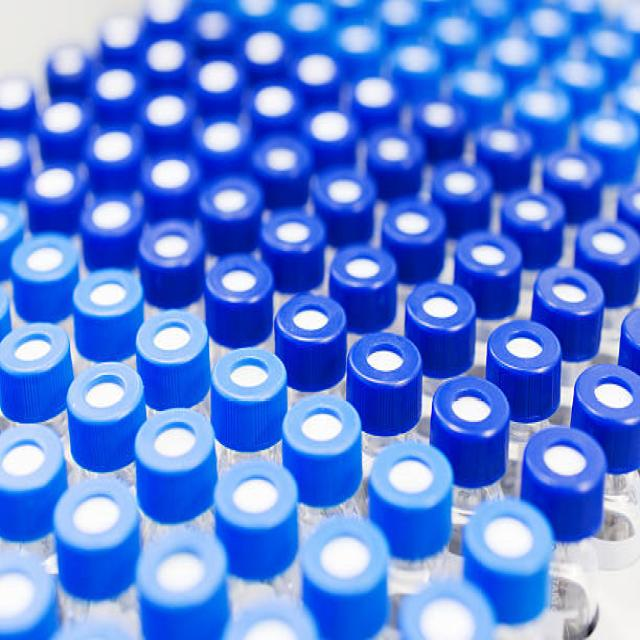vial: (296, 519, 394, 589), (52, 480, 146, 552), (215, 460, 304, 532), (464, 500, 552, 572), (138, 537, 230, 605), (210, 348, 286, 424), (0, 547, 66, 633), (431, 380, 516, 439), (372, 444, 452, 506), (528, 429, 604, 493), (131, 408, 216, 465), (347, 326, 422, 390), (202, 253, 279, 315), (272, 284, 345, 349), (484, 319, 562, 378), (67, 366, 149, 422), (326, 236, 401, 296), (402, 589, 490, 640), (577, 363, 640, 432), (1, 429, 62, 500), (283, 399, 358, 455), (135, 308, 209, 364), (538, 267, 601, 331), (4, 322, 70, 380), (64, 277, 143, 324), (268, 207, 334, 260), (450, 232, 528, 275), (407, 281, 469, 333), (312, 169, 376, 218), (504, 192, 568, 238), (388, 199, 446, 249), (139, 222, 199, 270), (10, 235, 78, 277), (578, 226, 636, 274), (430, 165, 488, 212), (234, 608, 317, 640), (583, 112, 639, 158), (552, 146, 602, 197), (207, 174, 260, 220), (472, 122, 526, 166), (82, 195, 132, 239), (87, 127, 147, 162), (144, 152, 201, 188), (376, 132, 426, 171), (256, 138, 309, 174), (31, 166, 80, 204), (310, 110, 358, 144), (41, 103, 87, 136), (0, 130, 29, 180), (458, 70, 498, 106), (143, 44, 189, 75), (562, 51, 595, 92), (0, 198, 28, 246), (525, 85, 567, 117), (353, 78, 394, 110), (296, 54, 335, 87), (419, 98, 459, 130), (252, 80, 292, 112), (144, 96, 186, 125), (592, 28, 628, 61), (338, 24, 377, 54), (198, 124, 238, 153), (101, 24, 142, 52), (399, 47, 442, 73), (0, 72, 30, 108), (195, 4, 232, 33), (198, 59, 240, 84), (440, 24, 472, 56), (502, 40, 536, 70), (98, 66, 134, 94), (536, 7, 572, 35), (621, 308, 640, 357), (49, 52, 85, 77), (243, 35, 280, 59), (620, 188, 640, 227), (387, 2, 421, 24), (294, 10, 324, 32), (616, 85, 640, 112), (148, 0, 172, 23), (477, 0, 507, 17), (0, 280, 9, 336), (242, 0, 274, 14), (568, 0, 593, 14), (331, 0, 363, 2)
